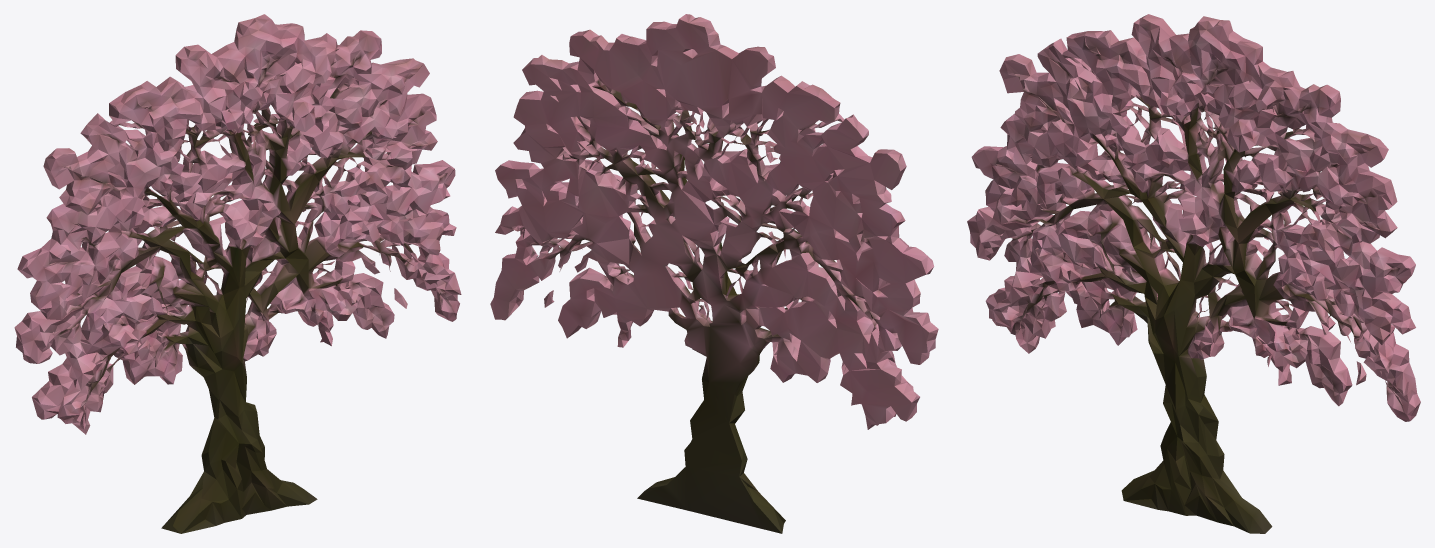
File: lib_tp_sakura.vc.glb
The picture shows the model from 3 angles, left to right: view 1: azimuth 30°, elevation 25°; view 2: azimuth 150°, elevation 25°; view 3: azimuth 330°, elevation 25°; orthographic projection.
Parts seen in each view (by area): view 1: lib_tp_sakura; view 2: lib_tp_sakura; view 3: lib_tp_sakura.
Part boxes in pixels (x1=…): lib_tp_sakura: x1=14, y1=14, x2=461, y2=533; lib_tp_sakura: x1=490, y1=14, x2=938, y2=533; lib_tp_sakura: x1=967, y1=14, x2=1420, y2=533.
Size of the model in its own units: 1.79 by 1.9 by 0.1252.
